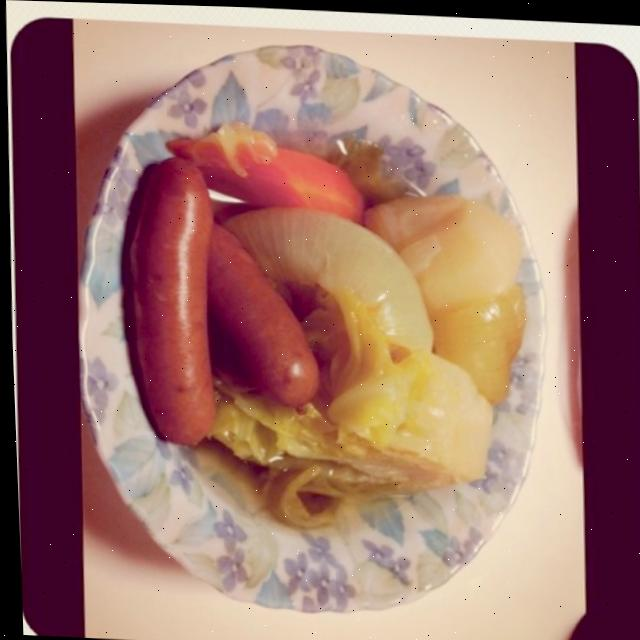汤锅炖物: (77, 81, 560, 595)
